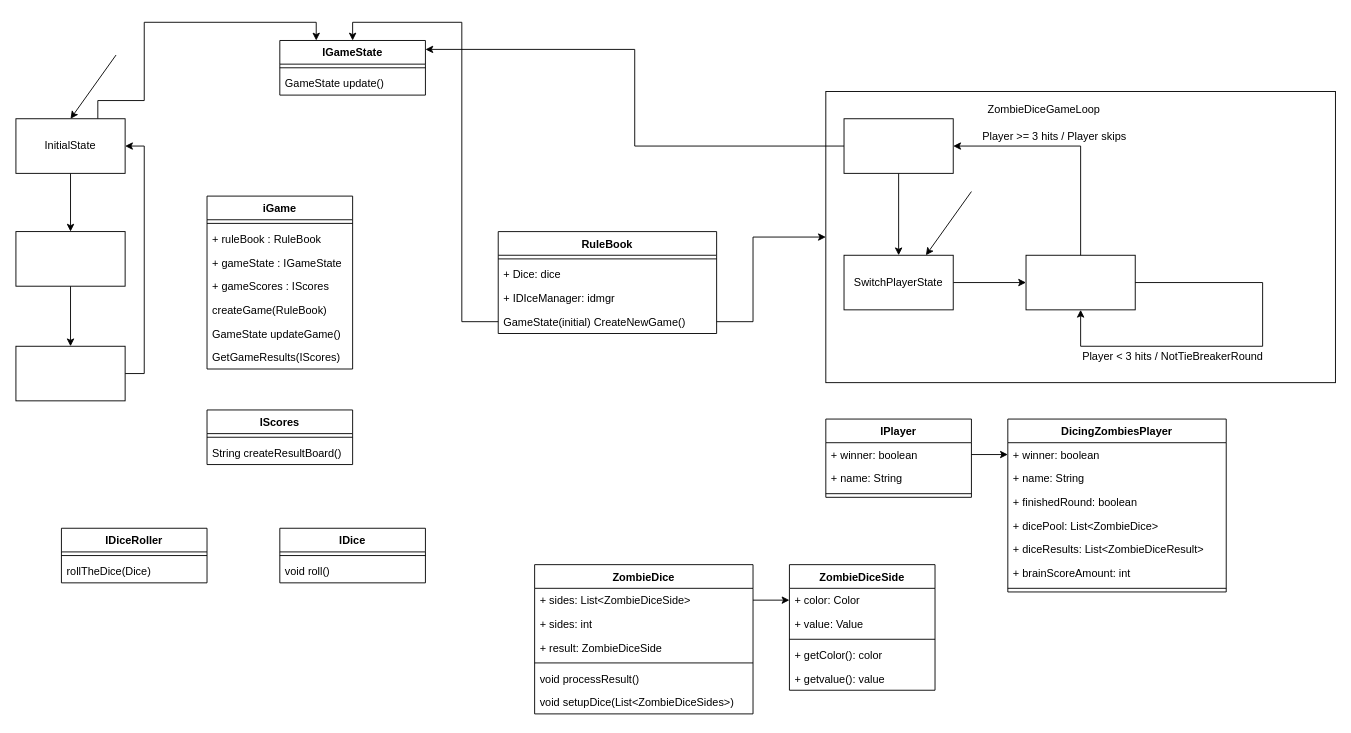
This 1351x733 diagram has some shape labels left out. Here are the shapes that lost their labels. From the top down, the centre of each, then its label:
point 898,145: EndTurnState
point 70,258: PlayState
point 1080,282: RollDiceState
point 70,373: EndState
